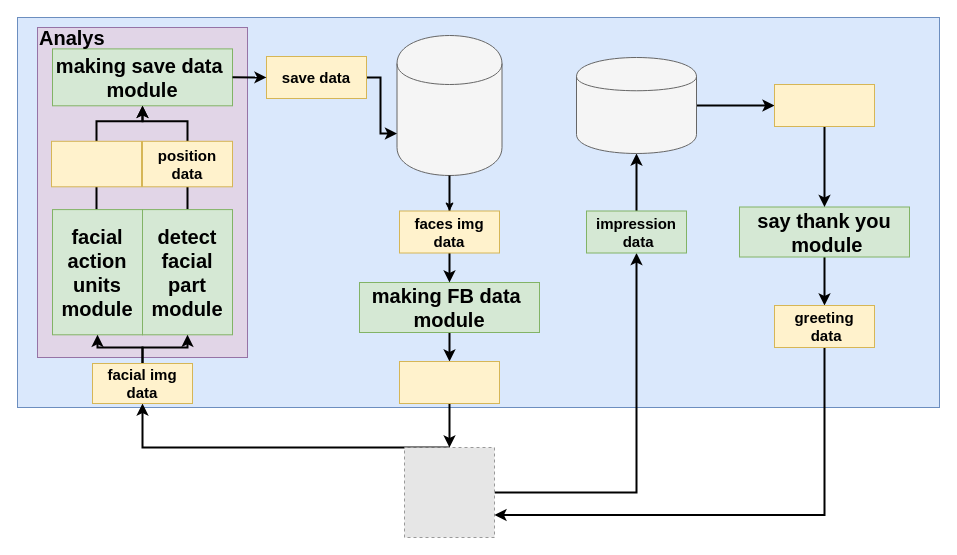
This 957x555 diagram has some shape labels left out. Grey dashed boxes stand in for pictures. The centre of each missing label's shape, as x and y in pixels:
"Face img Data base" belongs at (x=449, y=105).
"facial action data" belongs at (x=96, y=163).
"feed back data" belongs at (x=449, y=382).
"finish saving data" belongs at (x=824, y=105).
"save impression DB" belongs at (x=636, y=105).
